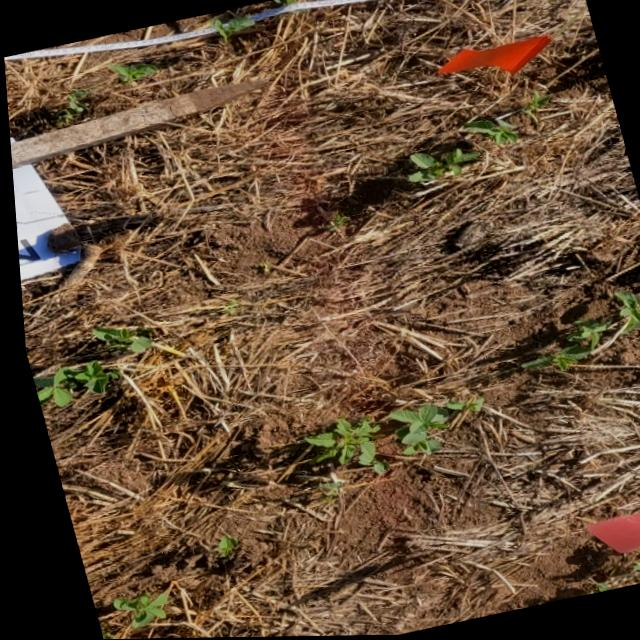soy_plant: (298, 399, 476, 474), (516, 320, 608, 371), (27, 359, 112, 406), (407, 149, 477, 182), (104, 592, 158, 627), (87, 326, 147, 352), (460, 118, 515, 145), (209, 15, 254, 40), (611, 292, 637, 334), (56, 88, 88, 122), (108, 62, 156, 82), (208, 533, 230, 556)
